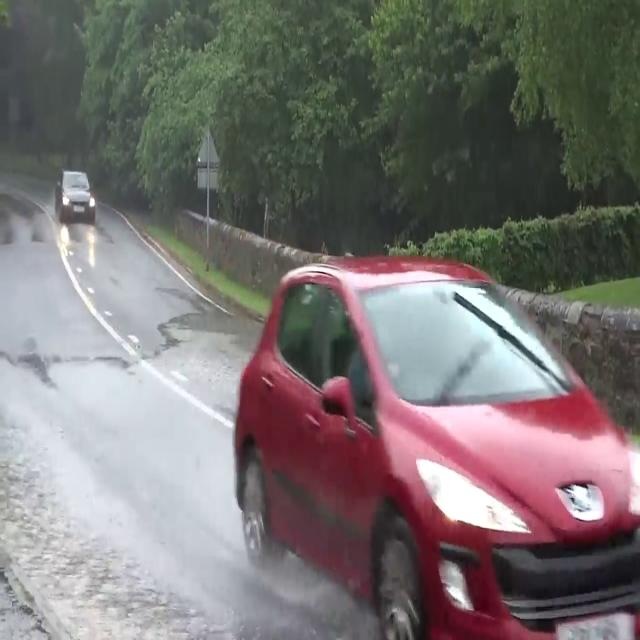license-plate-annotation: (72, 203, 86, 212)
